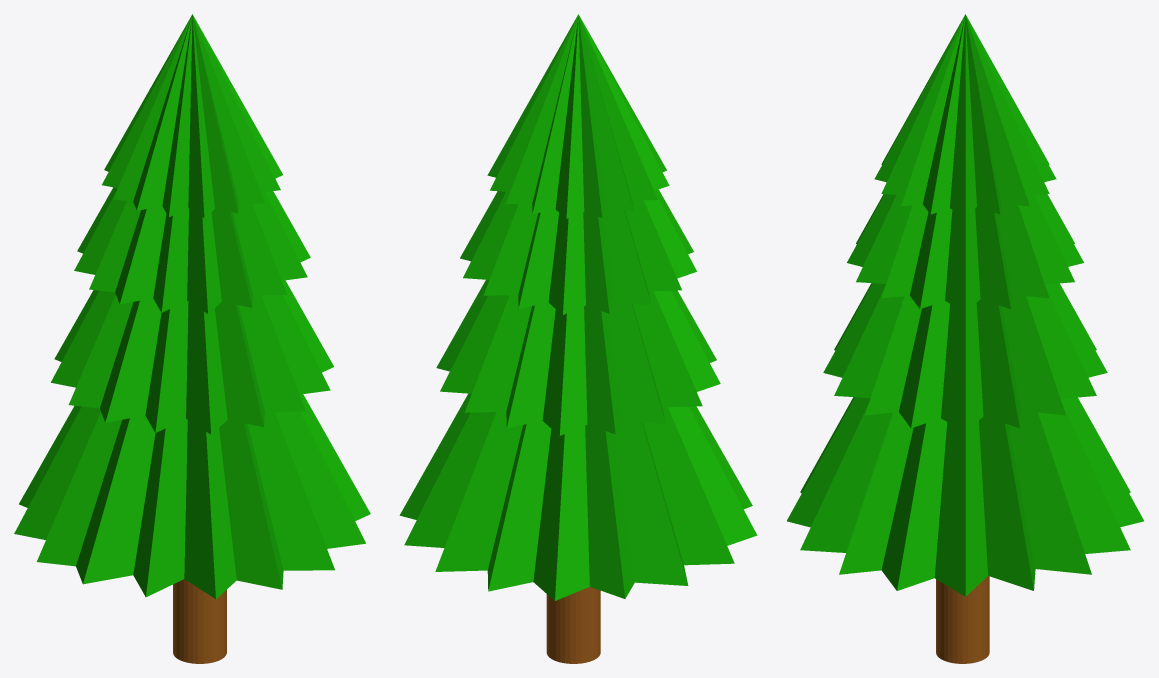
File: agac.fbx
3 views of the same model, side by side, from view 1: azimuth 30°, elevation 25°; view 2: azimuth 150°, elevation 25°; view 3: azimuth 270°, elevation 25° (orthographic).
Parts seen in each view (by area): view 1: Cone.004, Cylinder; view 2: Cone.004, Cylinder; view 3: Cone.004, Cylinder.
Part boxes in pixels (x1,y1,x2,y2): Cone.004: [14, 14, 370, 598]; Cylinder: [173, 579, 226, 663]; Cone.004: [399, 14, 757, 600]; Cylinder: [546, 587, 600, 663]; Cone.004: [787, 14, 1143, 596]; Cylinder: [936, 576, 989, 663].
Bounding box in the file's own units: 1336 × 2617 × 1336.
